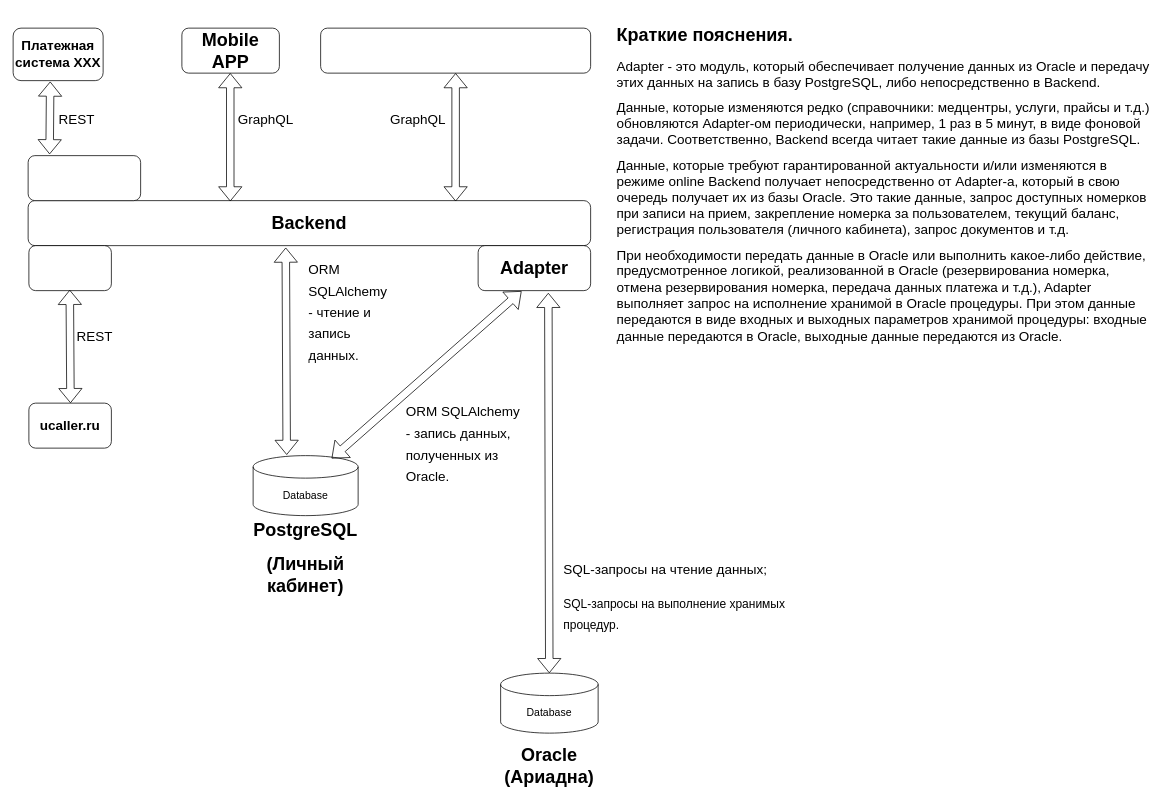
This 1166x806 diagram has some shape labels left out. The centre of each missing label's shape, as x and y in pixels:
"Frontend" goes at pixel 455 50.
"Payments" goes at pixel 84 178.
"PHONE auth" goes at pixel 69 268.
